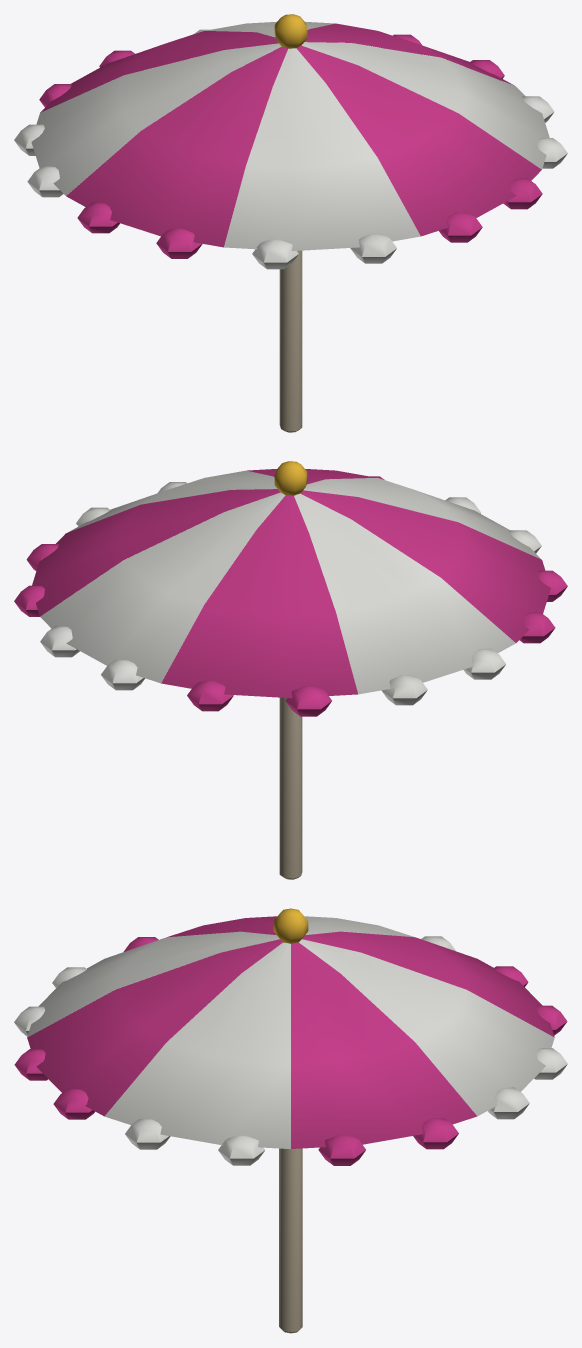
The model's file is SM_Prop_BeachUmbrella.fbx.
3 views of the same model, one above another, from view 1: azimuth 30°, elevation 25°; view 2: azimuth 150°, elevation 25°; view 3: azimuth 270°, elevation 25° (orthographic).
Parts seen in each view (by area): view 1: SM_Prop_BeachUmbrella; view 2: SM_Prop_BeachUmbrella; view 3: SM_Prop_BeachUmbrella.
Part boxes in pixels (<box>): SM_Prop_BeachUmbrella: <box>14,14,567,432</box>; SM_Prop_BeachUmbrella: <box>14,461,567,879</box>; SM_Prop_BeachUmbrella: <box>14,908,567,1333</box>.
Size of the model in its own units: 93.41 by 79.11 by 94.53.
